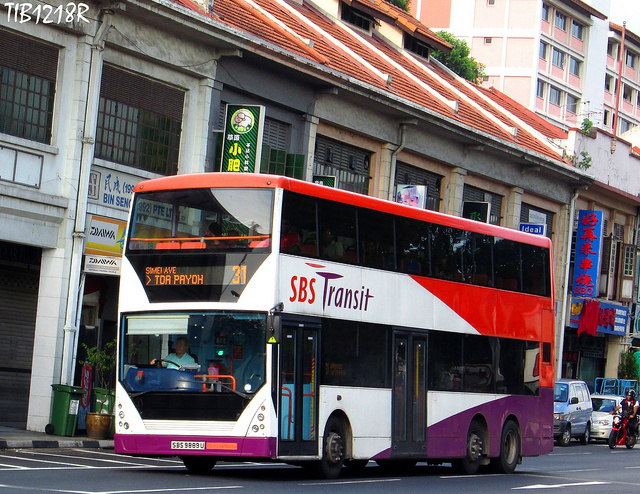bus: (105, 144, 556, 468)
closed_door: (275, 308, 315, 460), (393, 323, 429, 465)
number: (227, 261, 249, 296)
